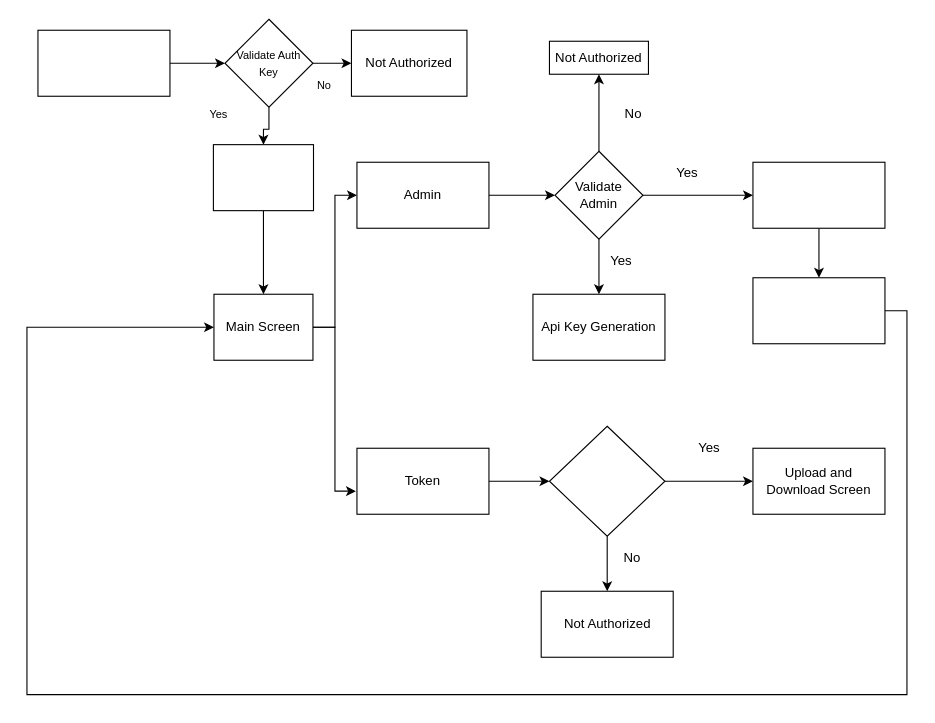
Image size: 935x723. Some labels were removed from this diagram. The shapes that lost their labels are listed below. From the top down, each one's centre as x and y in pixels, then its label:
the point at 103,62: Super Admin
the point at 263,177: Generate Admin credentials
the point at 818,194: Token Generation Screen
the point at 818,310: Logout
the point at 606,480: Validate Token
